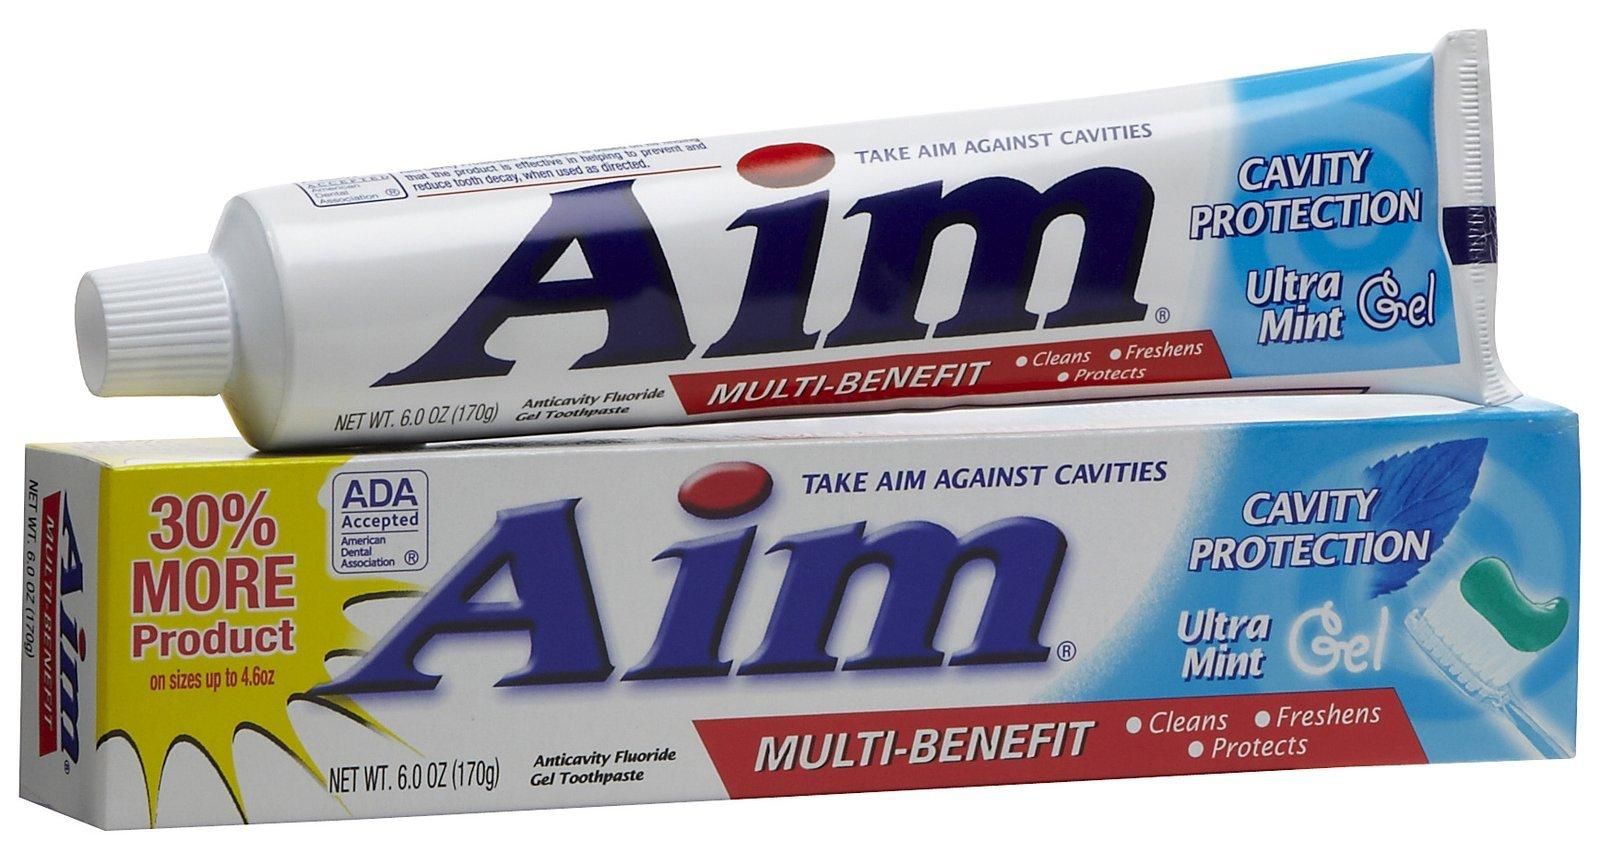toothpaste: (65, 24, 1554, 456)
